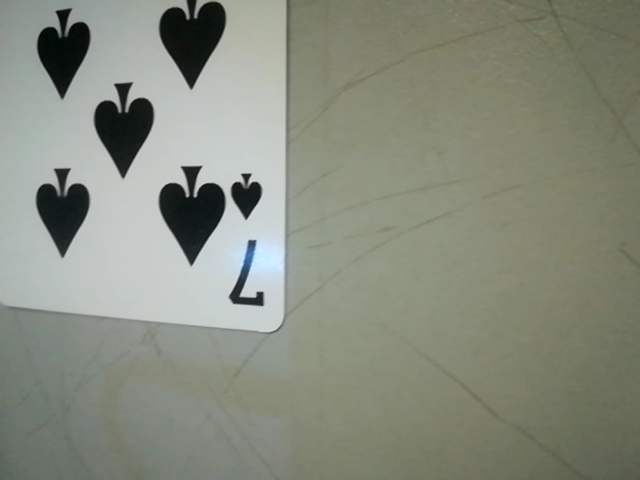ht 7: (218, 158, 281, 327)
